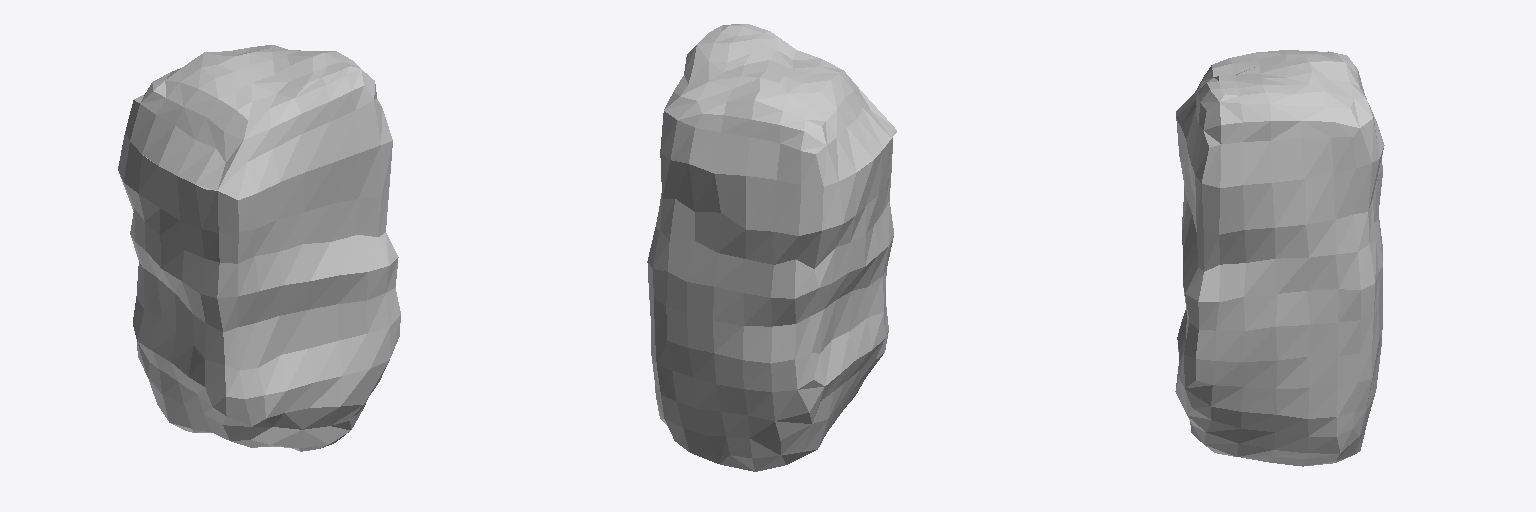
The model's file is rock3.obj.
3 views of the same model, side by side, from view 1: azimuth 30°, elevation 25°; view 2: azimuth 150°, elevation 25°; view 3: azimuth 270°, elevation 25° (orthographic).
Parts seen in each view (by area): view 1: low; view 2: low; view 3: low.
Boxes of the visible parts, box(x1,y1,x2,y2) form: low: box(118, 45, 400, 451); low: box(647, 24, 896, 471); low: box(1175, 50, 1384, 466).
Bounding box in the file's own units: 25.68 × 46 × 22.43.